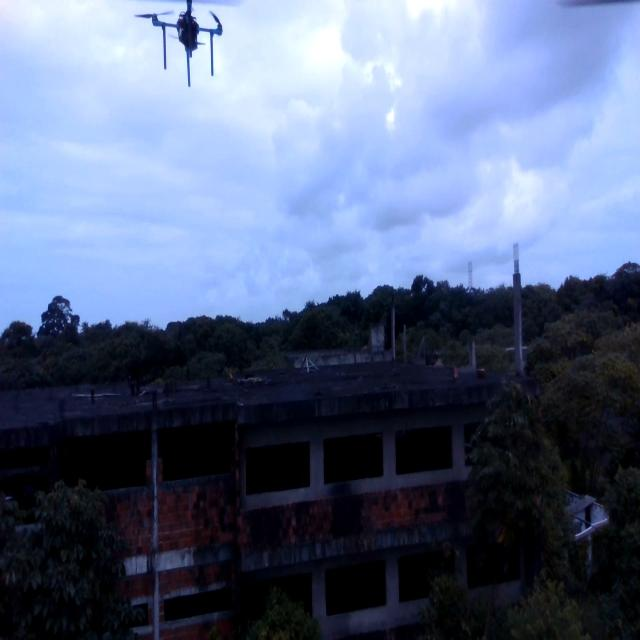-uav-: (129, 0, 236, 105)
